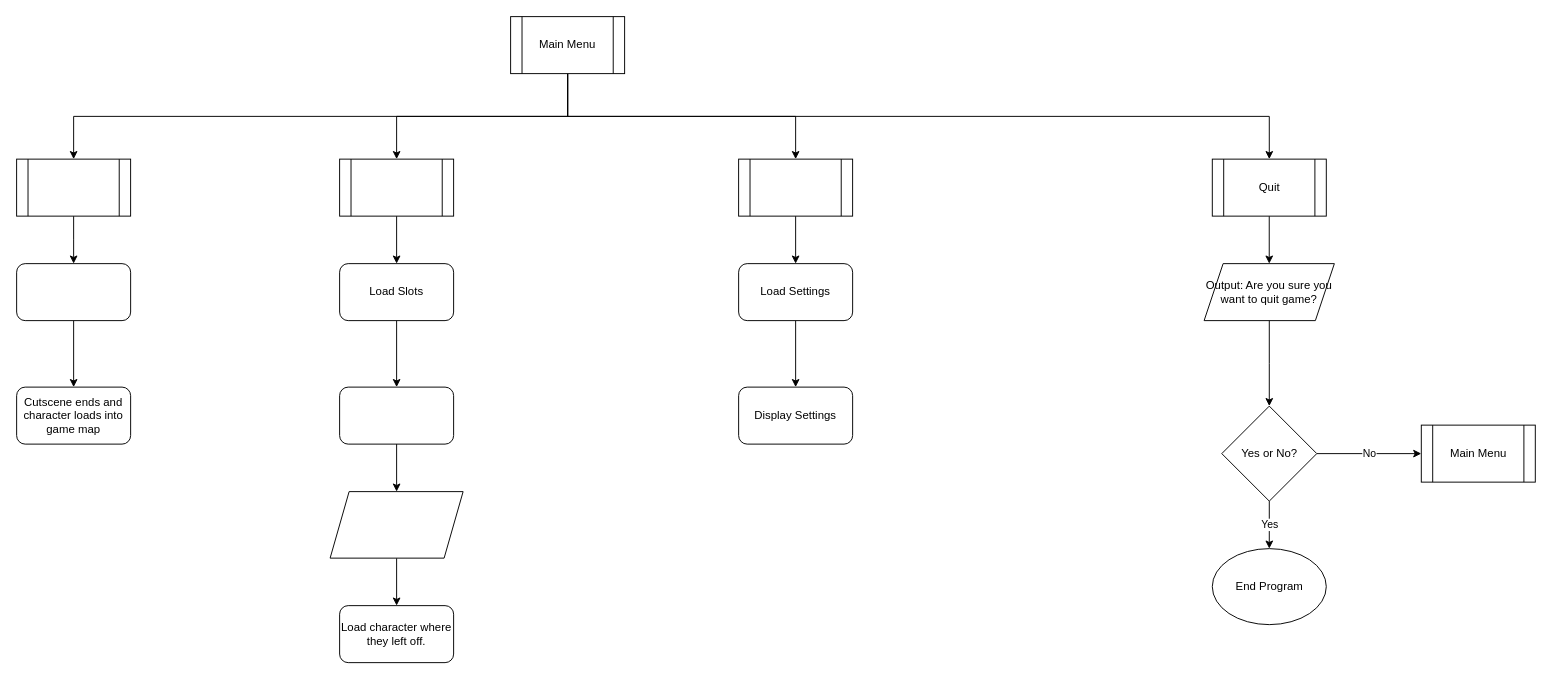
Image size: 1552x679. Some labels were removed from this diagram. Here are the shapes that lost their labels. From the top down, the centre of each, then its label:
[73,187]: New Game
[396,187]: Load Game
[795,187]: Settings
[73,292]: Show Cutscene
[396,415]: Display Slots
[396,524]: Output: Select a slot.
